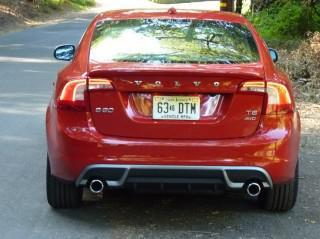volvo: (122, 73, 236, 92)
